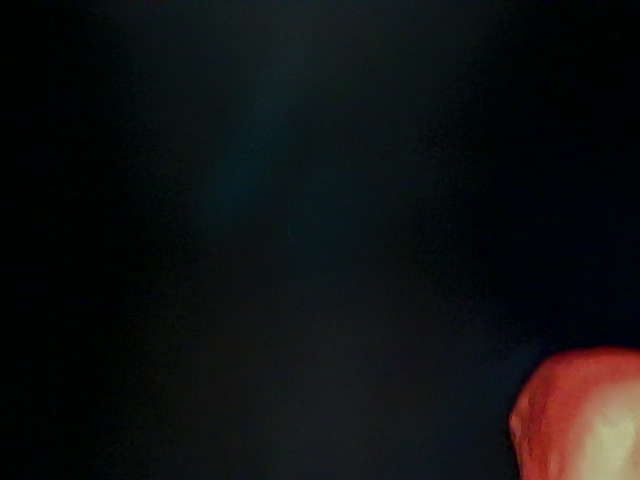KHSLJ: (144, 1, 633, 190)
